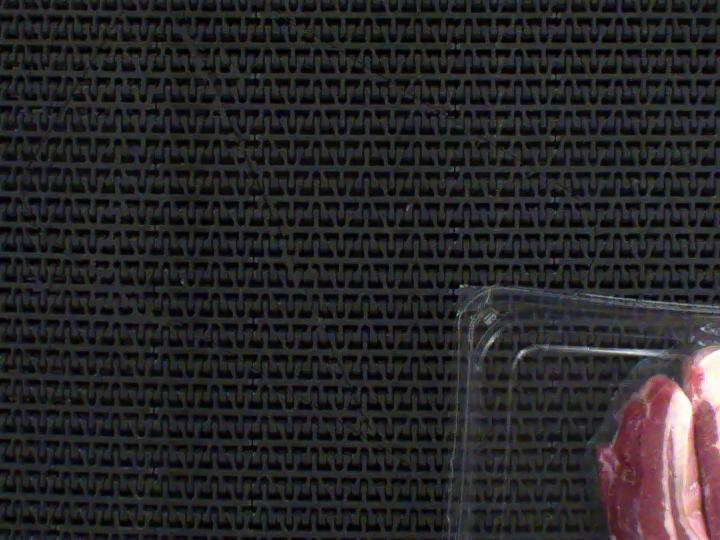unsealed: (570, 318, 720, 492)
